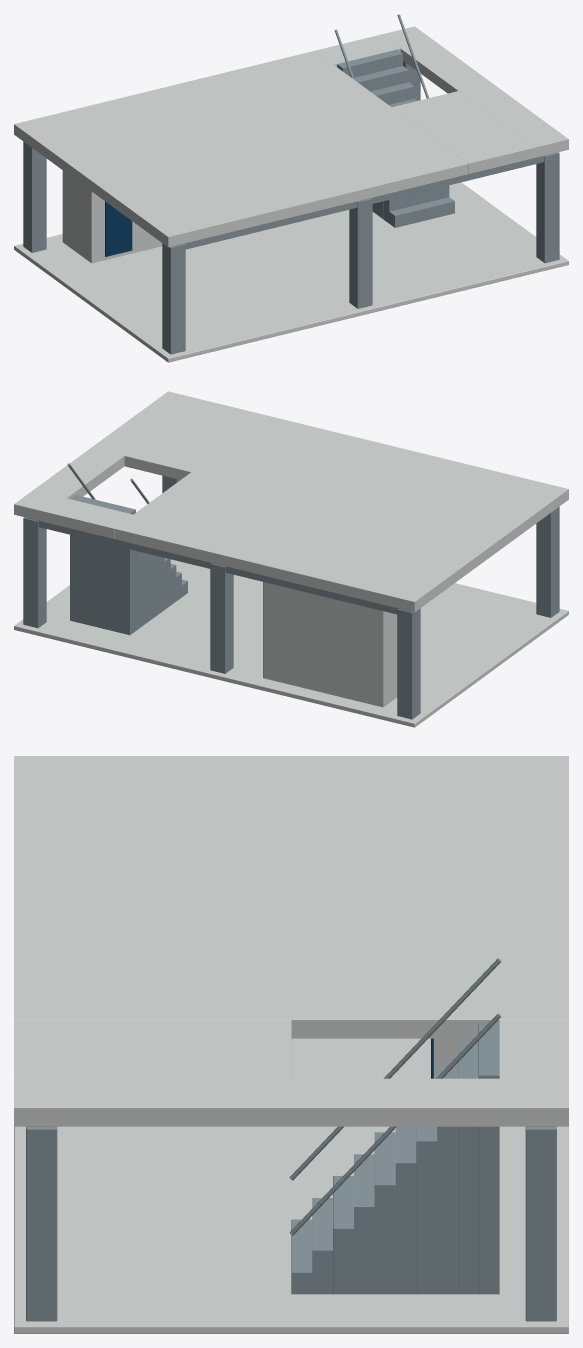
Rendered from edited.glb.
3 renders of one model, top to bottom at view 1: azimuth 30°, elevation 25°; view 2: azimuth 150°, elevation 25°; view 3: azimuth 270°, elevation 25°, orthographic. The views are drawn at different scales.
Parts seen in each view (by area): view 1: TRANSFER_Main, GROUND_Slab, TRANSFER_Right, TRANSFER_Front, SERVICE_Core, COLUMN.001, COLUMN.005, COLUMN.003, TRANSFER_Beam, COLUMN.002, TRANSFER_Rear, SERVICE_RiserDoor (+5 smaller); view 2: TRANSFER_Main, GROUND_Slab, SERVICE_Core, STAIR_Step.009, TRANSFER_Right, TRANSFER_Front, COLUMN.002, COLUMN.004, COLUMN, TRANSFER_Beam.001, COLUMN.001, TRANSFER_Rear (+3 smaller); view 3: TRANSFER_Main, GROUND_Slab, TRANSFER_Right, TRANSFER_Front, COLUMN, COLUMN.005, STAIR_Step.009, STAIR_Step.008, TRANSFER_Rear, STAIR_Step.007, STAIR_Step.006, STAIR_Step.005 (+8 smaller).
Boxes of the visible parts, left/top/right/bottom form: TRANSFER_Main: left=14, top=51, right=468, bottom=247; GROUND_Slab: left=14, top=182, right=568, bottom=362; TRANSFER_Right: left=381, top=26, right=568, bottom=157; TRANSFER_Front: left=392, top=91, right=535, bottom=173; SERVICE_Core: left=62, top=170, right=162, bottom=263; COLUMN.001: left=162, top=243, right=185, bottom=354; COLUMN.005: left=536, top=152, right=559, bottom=263; COLUMN.003: left=349, top=198, right=372, bottom=308; TRANSFER_Beam: left=172, top=153, right=556, bottom=249; COLUMN.002: left=23, top=141, right=46, bottom=252; TRANSFER_Rear: left=315, top=34, right=400, bottom=66; SERVICE_RiserDoor: left=105, top=201, right=132, bottom=256; TRANSFER_Main: left=114, top=416, right=568, bottom=612; GROUND_Slab: left=14, top=559, right=568, bottom=727; SERVICE_Core: left=263, top=582, right=397, bottom=707; STAIR_Step.009: left=70, top=495, right=135, bottom=635; TRANSFER_Right: left=14, top=391, right=201, bottom=522; TRANSFER_Front: left=124, top=399, right=267, bottom=479; COLUMN.002: left=397, top=608, right=420, bottom=719; COLUMN.004: left=210, top=563, right=233, bottom=673; COLUMN: left=23, top=517, right=46, bottom=627; TRANSFER_Beam.001: left=26, top=517, right=410, bottom=614; COLUMN.001: left=536, top=506, right=559, bottom=617; TRANSFER_Rear: left=47, top=498, right=132, bottom=538; TRANSFER_Main: left=14, top=756, right=568, bottom=1038; GROUND_Slab: left=14, top=1038, right=568, bottom=1333; TRANSFER_Right: left=14, top=1078, right=568, bottom=1126; TRANSFER_Front: left=14, top=1020, right=291, bottom=1078; COLUMN: left=525, top=1126, right=556, bottom=1321; COLUMN.005: left=26, top=1126, right=57, bottom=1321; STAIR_Step.009: left=478, top=1023, right=499, bottom=1294; STAIR_Step.008: left=458, top=1044, right=478, bottom=1294; TRANSFER_Rear: left=499, top=1020, right=568, bottom=1078; STAIR_Step.007: left=437, top=1066, right=457, bottom=1294; STAIR_Step.006: left=416, top=1126, right=437, bottom=1294; STAIR_Step.005: left=395, top=1126, right=416, bottom=1294.
Bounding box in the file's own units: 12 × 4.6 × 8.
